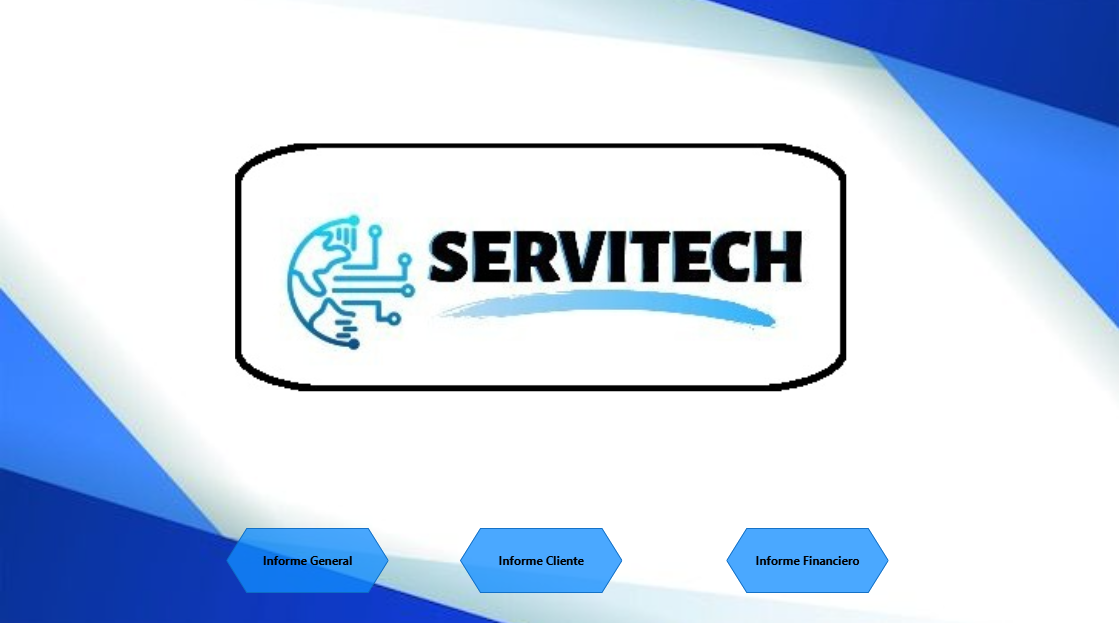

This screenshot's page, from the dashboard's own definition file:
{"tool":"powerbi","page":{"name":"Portada ","canvas":[1280,720],"ordinal":5},"visuals":[{"type":"shape","title":"Boton 3","box":[830,605.7,185.7,74.3],"z":1000},{"type":"shape","title":"Boton 2","box":[525.7,605.7,185.7,74.3],"z":2000},{"type":"shape","title":"Boton 1","box":[258.6,605.7,185.7,74.3],"z":3500},{"type":"image","box":[207.1,161.4,821.4,292.9],"z":4000}]}

Visuals, with their boxes in screenshot pixels (x1, y1, x2, y2), scaled from the page's 1280x720 canvas onto the 1119x623 screenshot:
"Boton 3" shape: left=726, top=524, right=888, bottom=588
"Boton 2" shape: left=460, top=524, right=622, bottom=588
"Boton 1" shape: left=226, top=524, right=388, bottom=588
image: left=181, top=140, right=899, bottom=393
